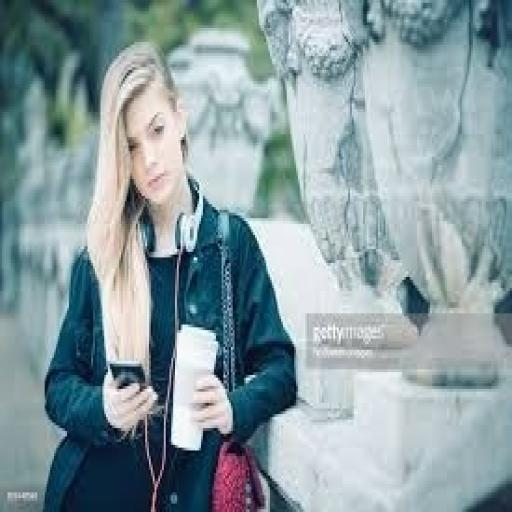listening_to_music: (43, 39, 300, 509)
